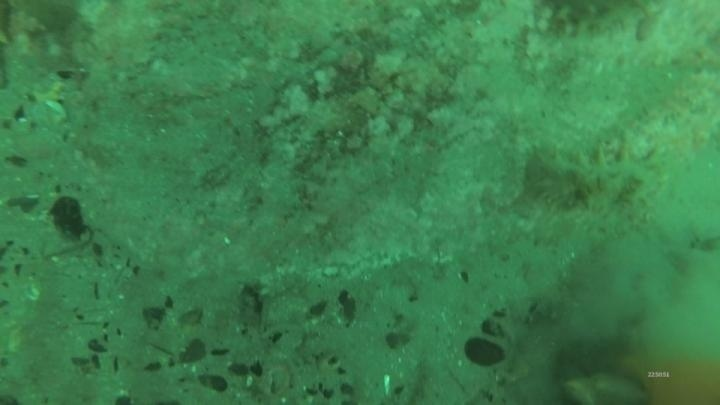holothurian: (525, 140, 671, 213), (528, 1, 652, 43)
